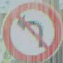Don't turn left: (7, 4, 59, 55)
